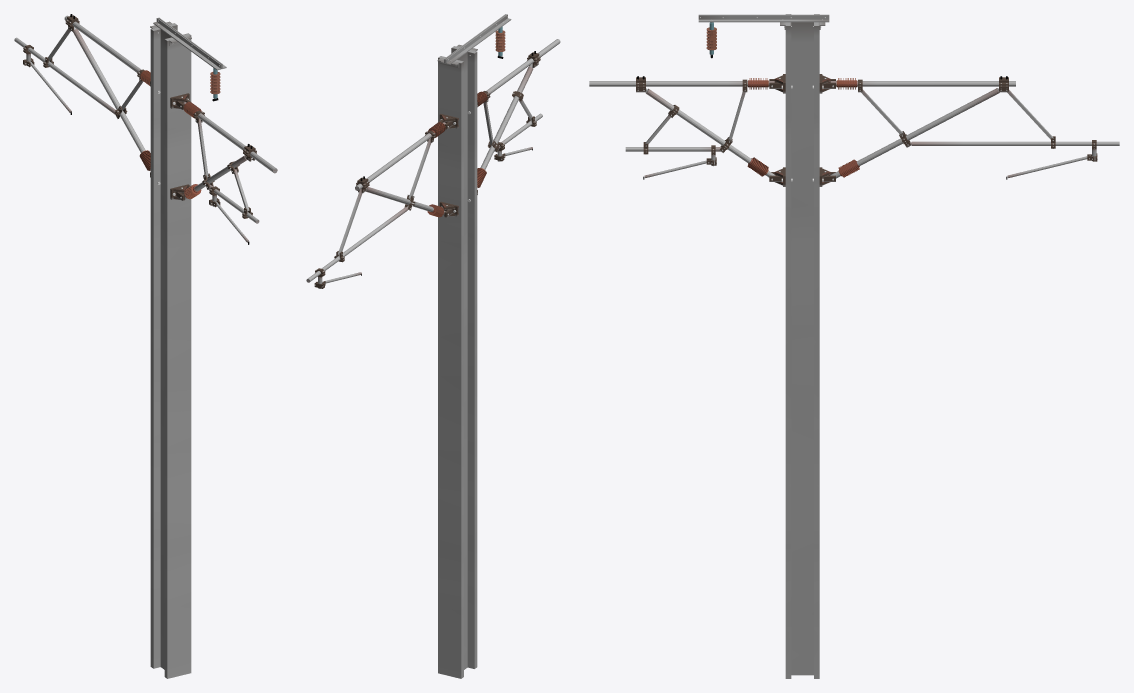
File: catenary_both.obj
3 renders of one model, left to right at view 1: azimuth 30°, elevation 25°; view 2: azimuth 150°, elevation 25°; view 3: azimuth 270°, elevation 25°, orthographic. The views are drawn at different scales.
Visible parts, largest first — view 1: cuboid, cylinder; view 2: cuboid, cylinder; view 3: cuboid, cylinder.
Part boxes in pixels (box(x1,y1,x2,y2)): cuboid: box(23, 14, 256, 678); cylinder: box(14, 15, 277, 244); cuboid: box(314, 14, 540, 678); cylinder: box(306, 16, 560, 288); cuboid: box(636, 14, 1097, 678); cylinder: box(589, 17, 1119, 181).
Size of the model in its own units: 0.3125 by 8 by 5.84.
Materials: 1 (1 with a texture image).
